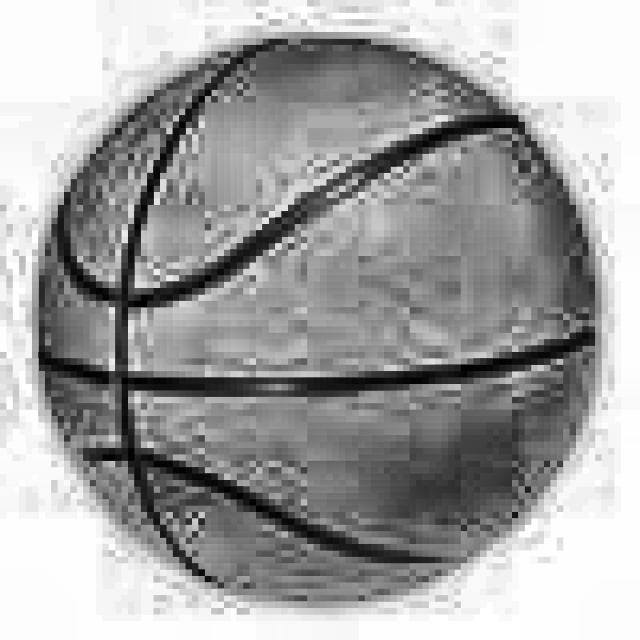Basketball: (38, 38, 602, 605)
